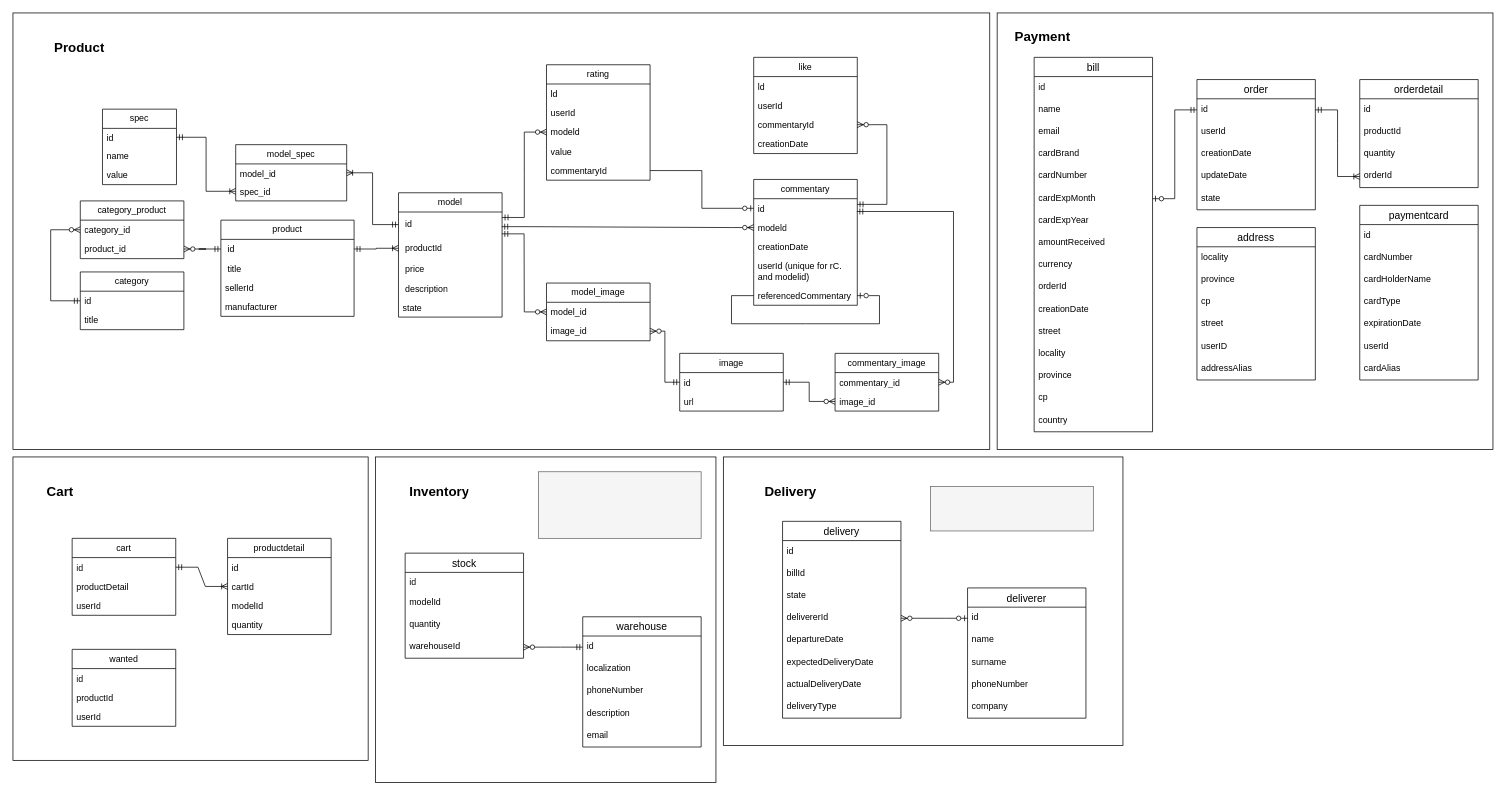
This 1506x796 diagram has some shape labels left out. The centre of each missing label's shape, as x and y in pixels:
Object:BillDto Long billId: point (1011, 508)
Object:CartDto Long cartId String userId List<productDetails> productDetails: point (619, 504)
